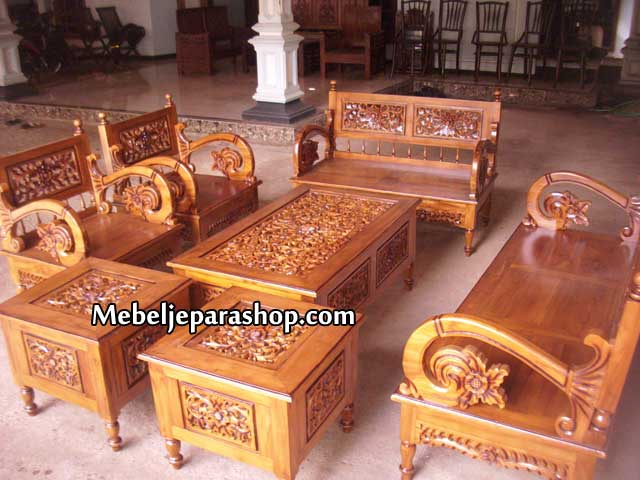Carving Chair: (417, 168, 640, 469), (288, 81, 504, 250), (5, 143, 167, 274), (104, 103, 260, 220)
